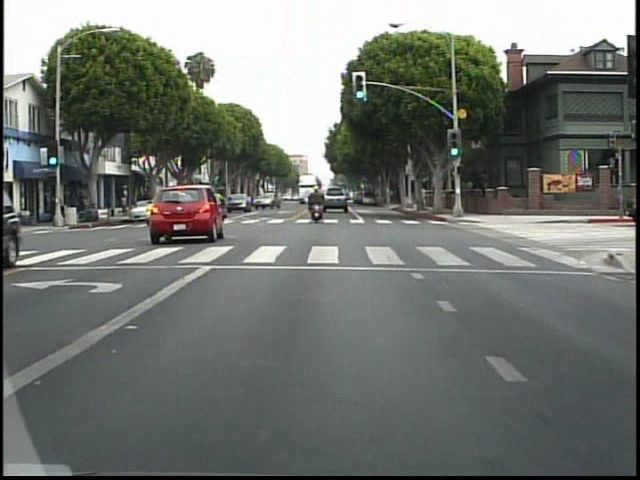person: (307, 180, 330, 225)
